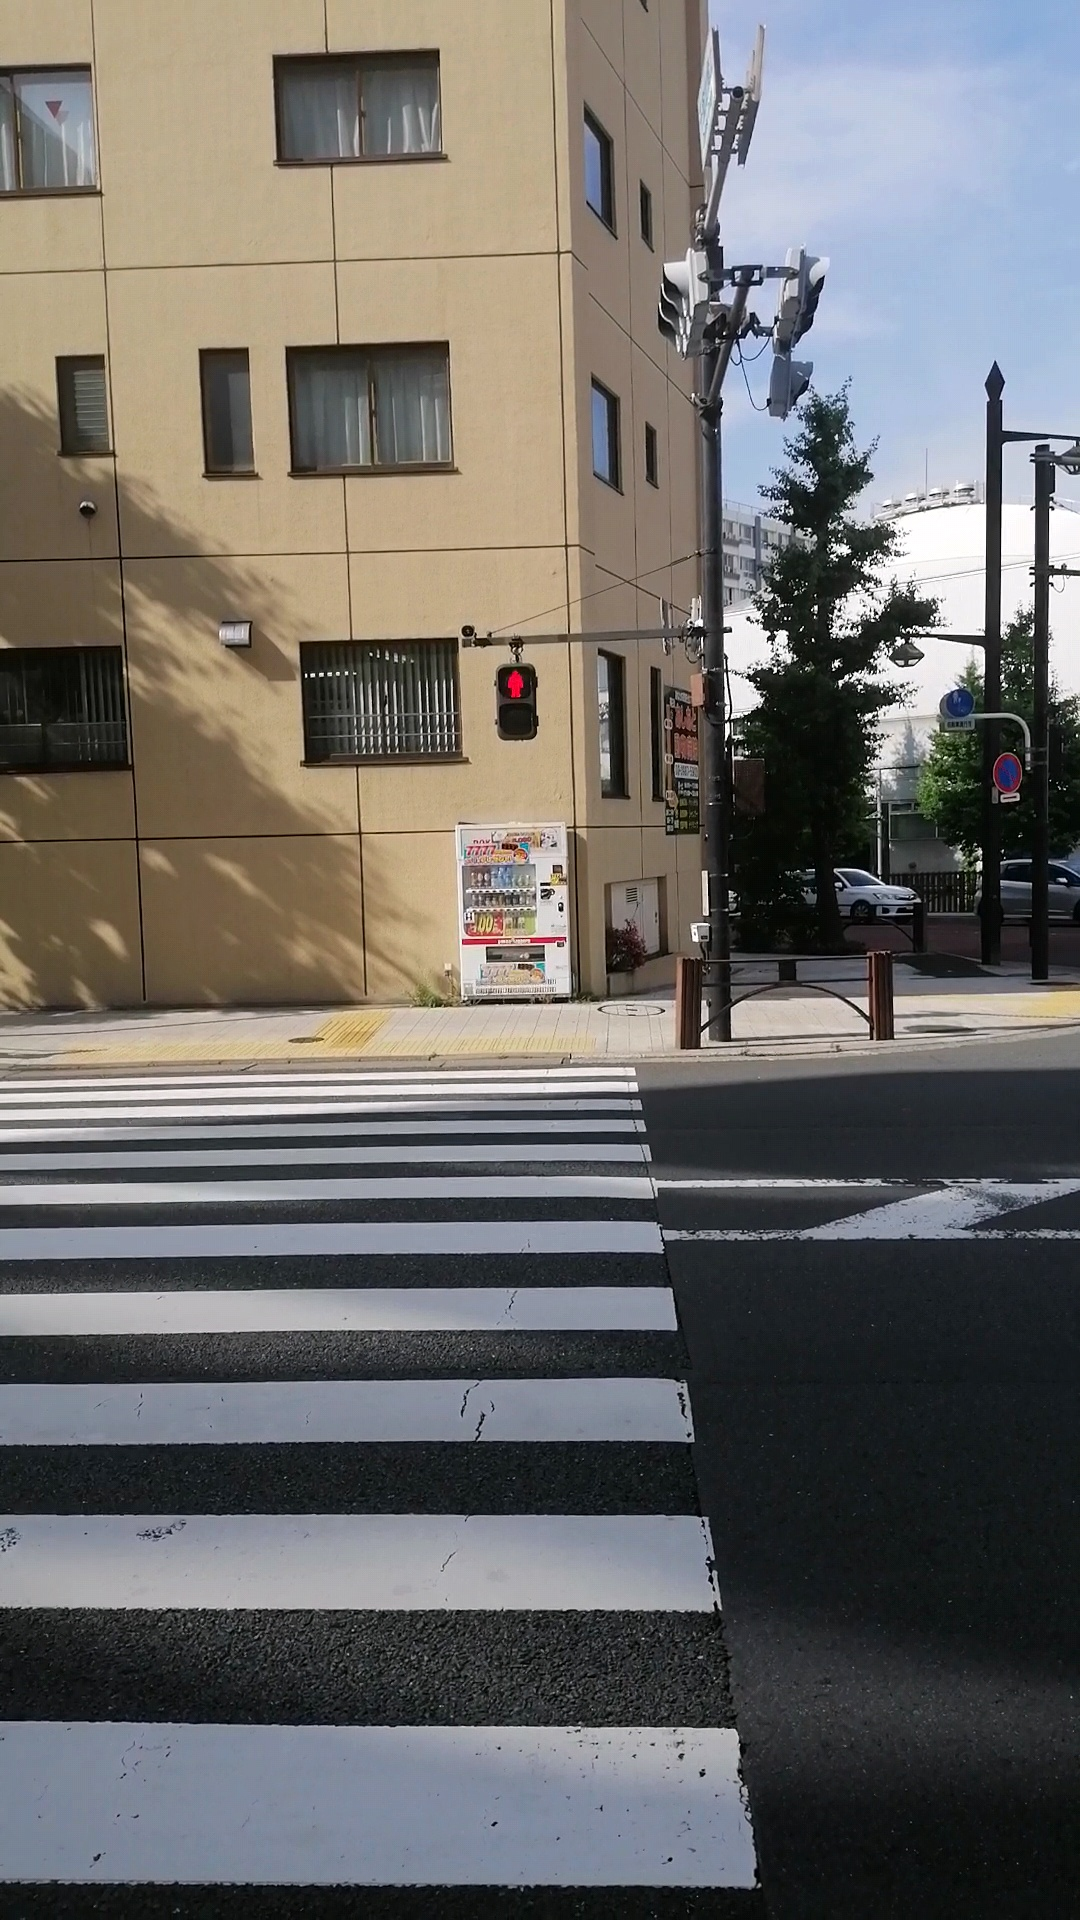red: (495, 662, 541, 741)
